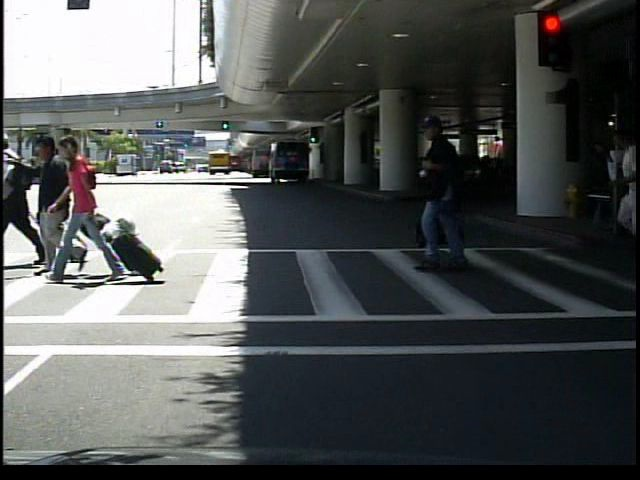person: (405, 113, 494, 273)
